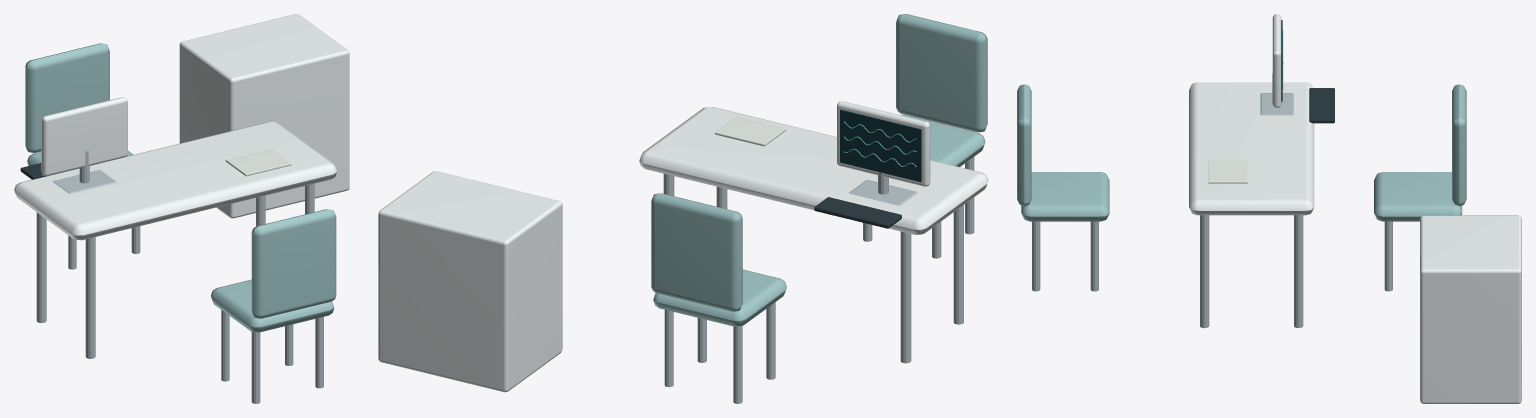
The picture shows the model from 3 angles, left to right: view 1: azimuth 30°, elevation 25°; view 2: azimuth 150°, elevation 25°; view 3: azimuth 270°, elevation 25°; orthographic projection. The views are drawn at different scales.
Visible parts, largest first — view 1: Rounded consultation desk, PhysicianChair cushion, Desk support, Paper notes; view 2: Rounded consultation desk, PhysicianChair cushion, Desk support, Physician fictional display, Physician keyboard, Paper notes; view 3: Rounded consultation desk, PhysicianChair cushion, Desk support, Paper notes, Physician keyboard.
Part boxes in pixels (bbox=[...]): Rounded consultation desk: bbox=[14, 14, 349, 240]; PhysicianChair cushion: bbox=[25, 43, 336, 332]; Desk support: bbox=[36, 151, 323, 403]; Paper notes: bbox=[225, 148, 291, 176]; Rounded consultation desk: bbox=[378, 101, 988, 392]; PhysicianChair cushion: bbox=[651, 14, 987, 326]; Desk support: bbox=[663, 157, 974, 403]; Physician fictional display: bbox=[840, 109, 921, 181]; Physician keyboard: bbox=[814, 197, 901, 228]; Paper notes: bbox=[715, 116, 786, 146]; Rounded consultation desk: bbox=[1189, 14, 1521, 403]; PhysicianChair cushion: bbox=[1017, 84, 1466, 221]; Desk support: bbox=[1032, 73, 1392, 328]; Paper notes: bbox=[1208, 160, 1247, 183]; Physician keyboard: bbox=[1309, 88, 1334, 123].
Size of the model in its own units: 2.24 by 1.2 by 2.58.
